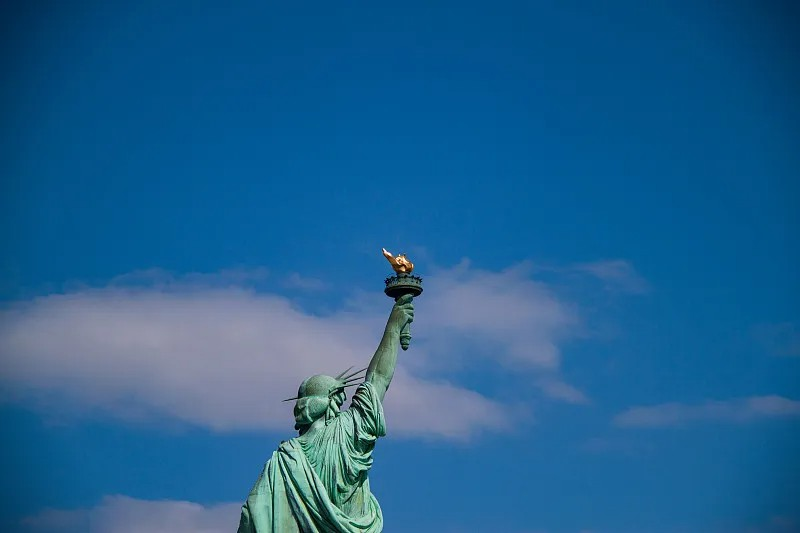SL: (237, 247, 423, 533)
